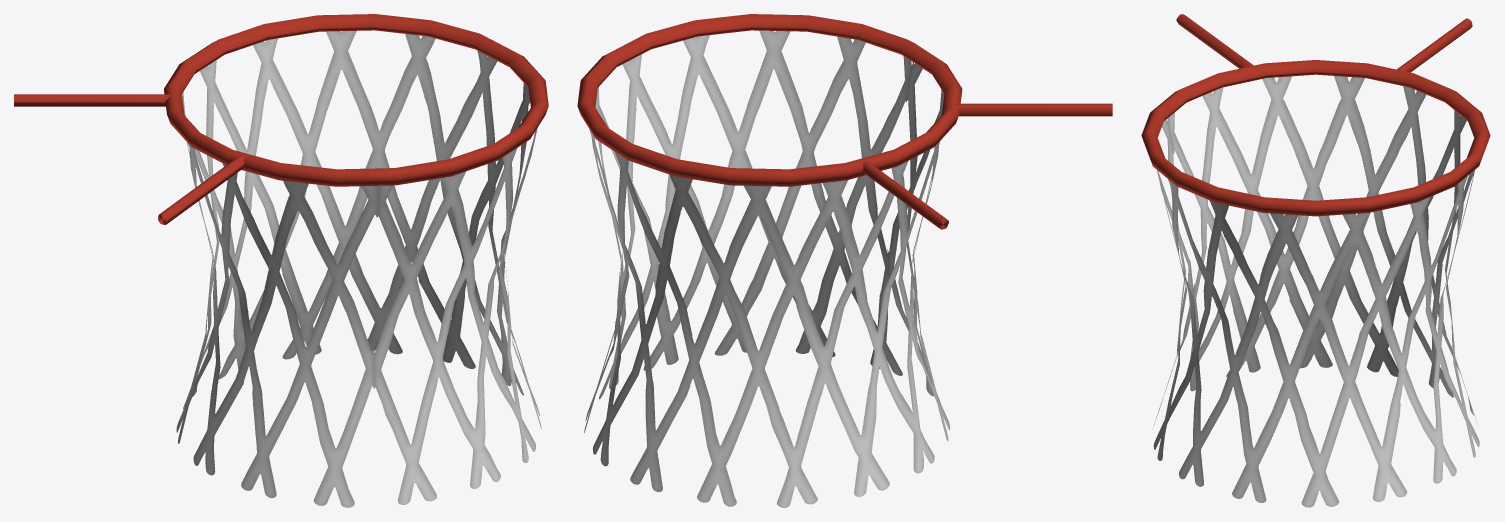
Rendered from BasketballHoop.fbx.
3 renders of one model, left to right at view 1: azimuth 30°, elevation 25°; view 2: azimuth 150°, elevation 25°; view 3: azimuth 270°, elevation 25°, orthographic. The views are drawn at different scales.
Visible parts, largest first — view 1: pCylinder4, pTorus1; view 2: pCylinder4, pTorus1; view 3: pCylinder4, pTorus1.
Part boxes in pixels (box(x1,y1,x2,y2)): pCylinder4: box(176, 31, 541, 507); pTorus1: box(14, 14, 548, 224); pCylinder4: box(584, 30, 949, 507); pTorus1: box(577, 14, 1112, 229); pCylinder4: box(1153, 76, 1479, 507); pTorus1: box(1141, 14, 1490, 216).
Bounding box in the file's own units: 2.74 × 2.03 × 2.1.
